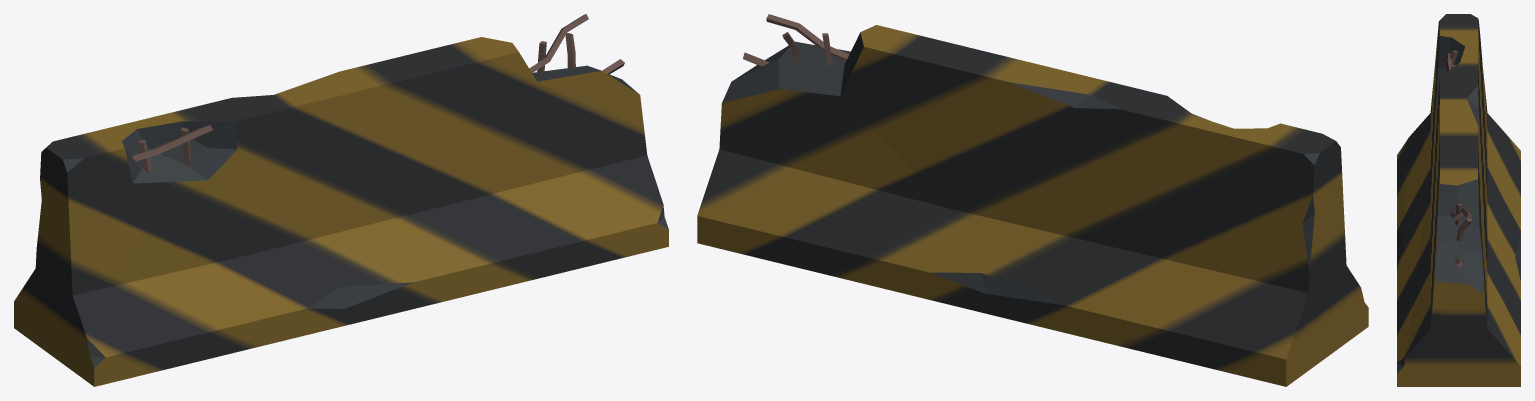
The model's file is barrier_2_v2.fbx.
The picture shows the model from 3 angles, left to right: view 1: azimuth 30°, elevation 25°; view 2: azimuth 150°, elevation 25°; view 3: azimuth 270°, elevation 25°; orthographic projection. The views are drawn at different scales.
Parts seen in each view (by area): view 1: SM_Prop_Barrier_Concrete_03_Striped_02; view 2: SM_Prop_Barrier_Concrete_03_Striped_02; view 3: SM_Prop_Barrier_Concrete_03_Striped_02.
Part boxes in pixels (box(x1,y1,x2,y2)): SM_Prop_Barrier_Concrete_03_Striped_02: box(14, 14, 668, 386); SM_Prop_Barrier_Concrete_03_Striped_02: box(697, 14, 1368, 386); SM_Prop_Barrier_Concrete_03_Striped_02: box(1397, 14, 1520, 386).
Size of the model in its own units: 281 by 97.13 by 68.16.
Materials: 1 (1 with a texture image).
